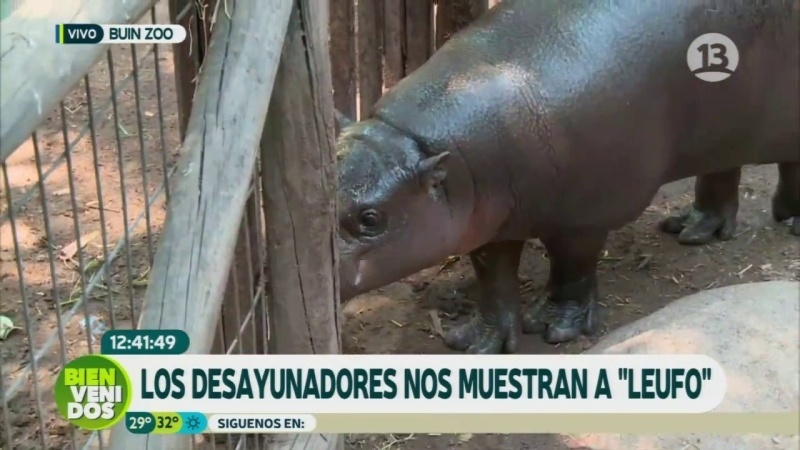hipopotamo: (322, 3, 800, 351)
